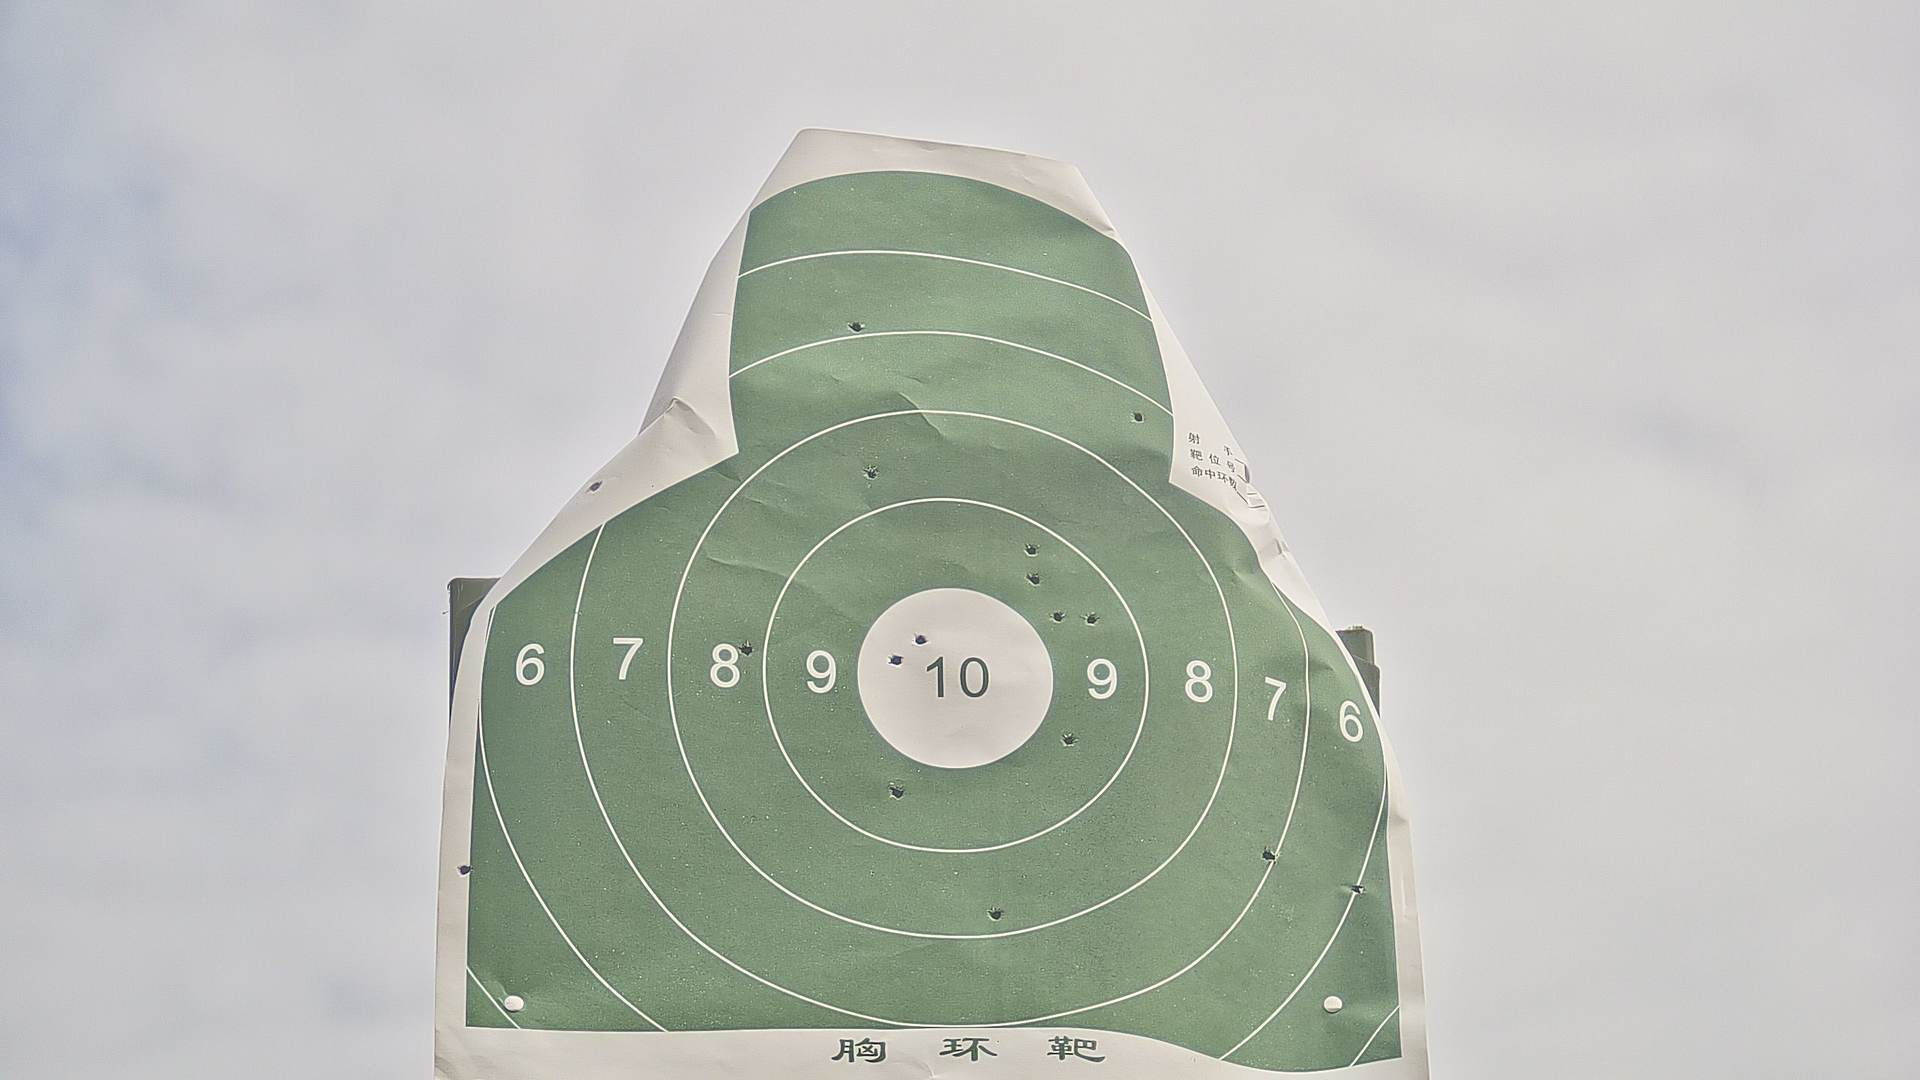hole: (585, 479, 604, 495), (458, 861, 473, 878), (986, 909, 1002, 922), (914, 634, 928, 647), (887, 653, 903, 665), (740, 644, 754, 655), (1029, 574, 1040, 585), (851, 320, 861, 334), (1027, 543, 1038, 556), (1087, 613, 1097, 626), (890, 787, 905, 796), (865, 467, 877, 477), (1265, 851, 1276, 861), (1064, 733, 1073, 746), (1054, 609, 1063, 621), (1354, 885, 1365, 894), (1133, 413, 1145, 421)
kernel: (949, 676, 955, 683)
target: (475, 174, 1400, 1072)
ten: (852, 584, 1059, 775)
